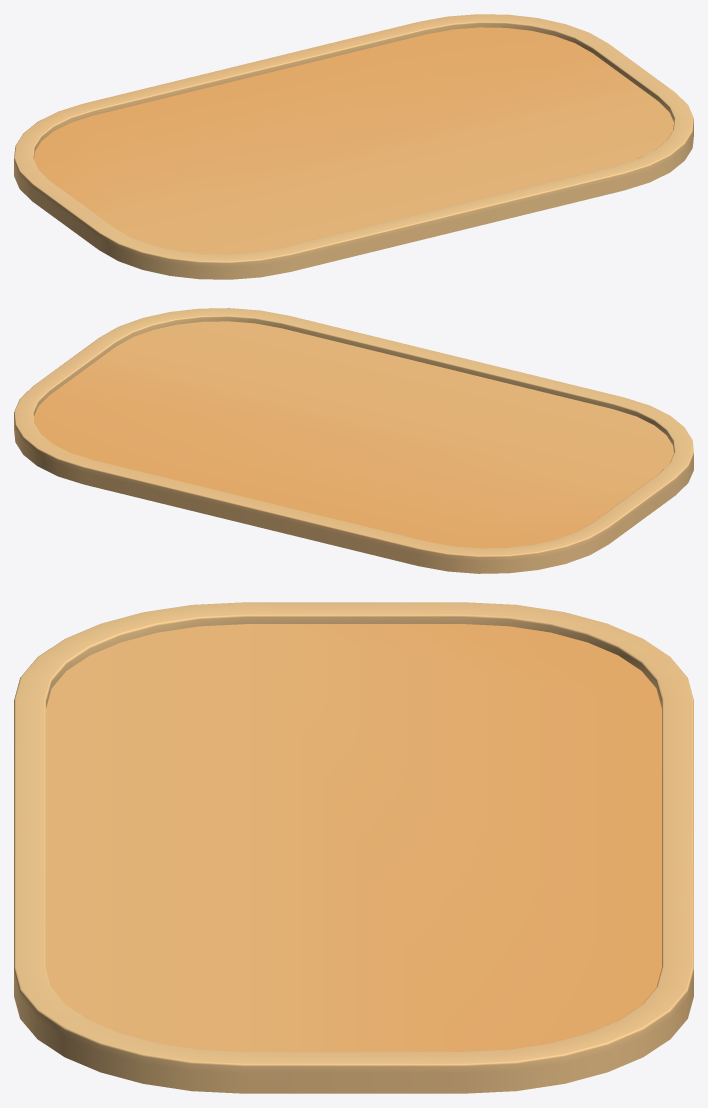
The model's file is Waiting_Area.FBX.
3 renders of one model, top to bottom at view 1: azimuth 30°, elevation 25°; view 2: azimuth 150°, elevation 25°; view 3: azimuth 270°, elevation 25°, orthographic. The views are drawn at different scales.
Parts seen in each view (by area): view 1: Waiting_Area; view 2: Waiting_Area; view 3: Waiting_Area.
Boxes of the visible parts, bbox=[...] form: Waiting_Area: bbox=[14, 14, 693, 279]; Waiting_Area: bbox=[14, 308, 693, 573]; Waiting_Area: bbox=[14, 602, 693, 1093].
Size of the model in its own units: 4381 by 129 by 2720.
1 material, 1 textured.
